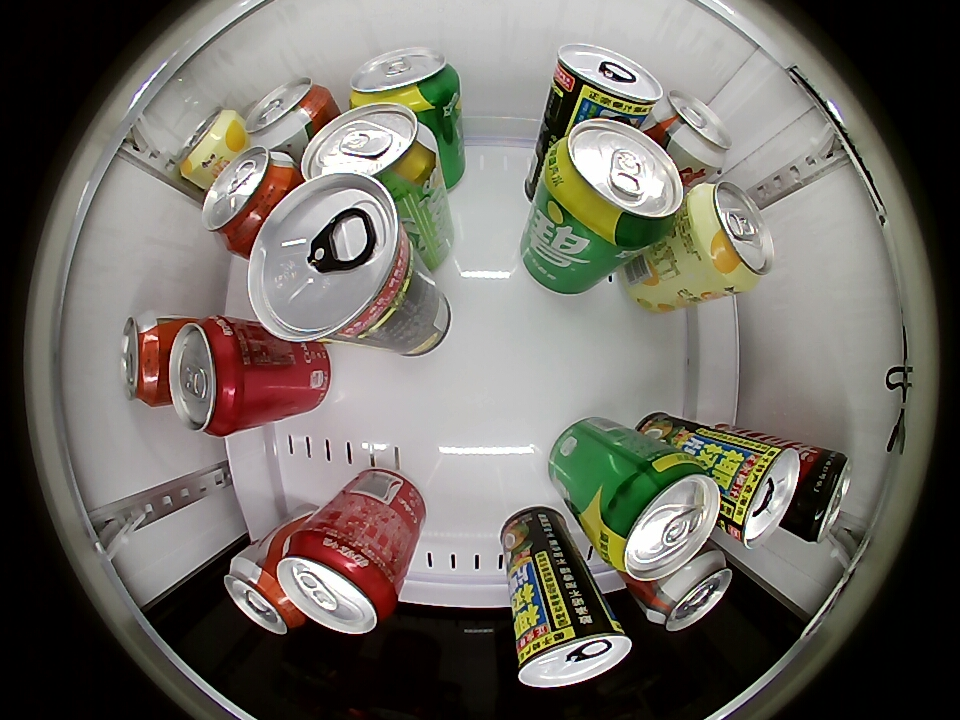jianlibao: (201, 144, 294, 249), (647, 548, 733, 632), (244, 78, 331, 150), (224, 554, 300, 635), (657, 90, 732, 172), (120, 314, 170, 406)
kele: (275, 530, 396, 634), (169, 315, 252, 436)
lingdukele: (791, 448, 852, 543)
mangguoxiaolao: (686, 179, 775, 291), (175, 108, 241, 180)
quchenshixiangcao: (301, 102, 436, 192)
xuebi2: (543, 119, 683, 248), (594, 451, 720, 582), (348, 47, 458, 112)
yezhi: (246, 173, 415, 344), (516, 609, 632, 688), (551, 44, 663, 121), (721, 443, 800, 549)
